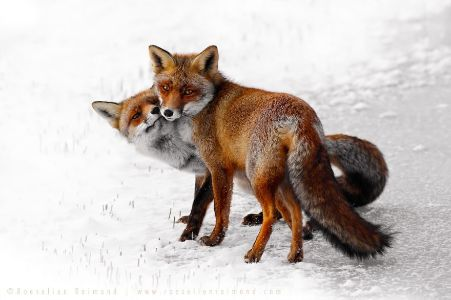fox: (148, 39, 390, 270), (90, 88, 211, 238)
